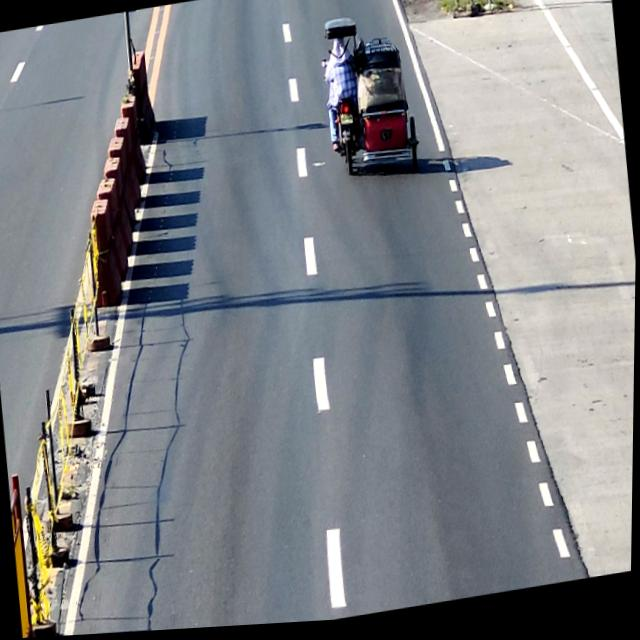License-Plate: (339, 116, 354, 131)
Tricycle: (315, 11, 423, 192)
